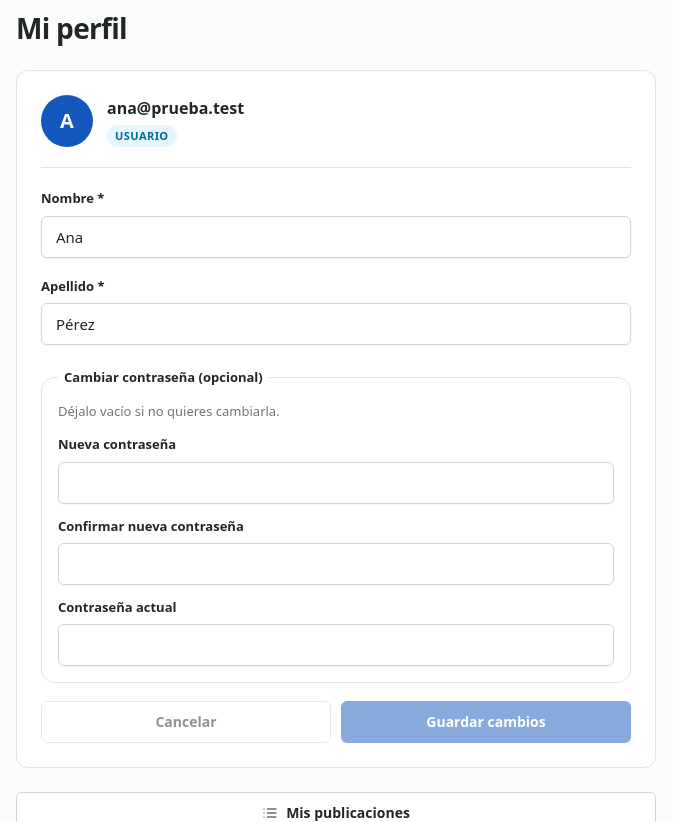
Test: H13 - Pantalla Perfil › muestra los errores junto a cada campo y no envía datos inválidos
Step 1. Replace the text in the field labelled "Nombre *" with "Ana123" → coordinates (336, 237), box [41,216,631,258]
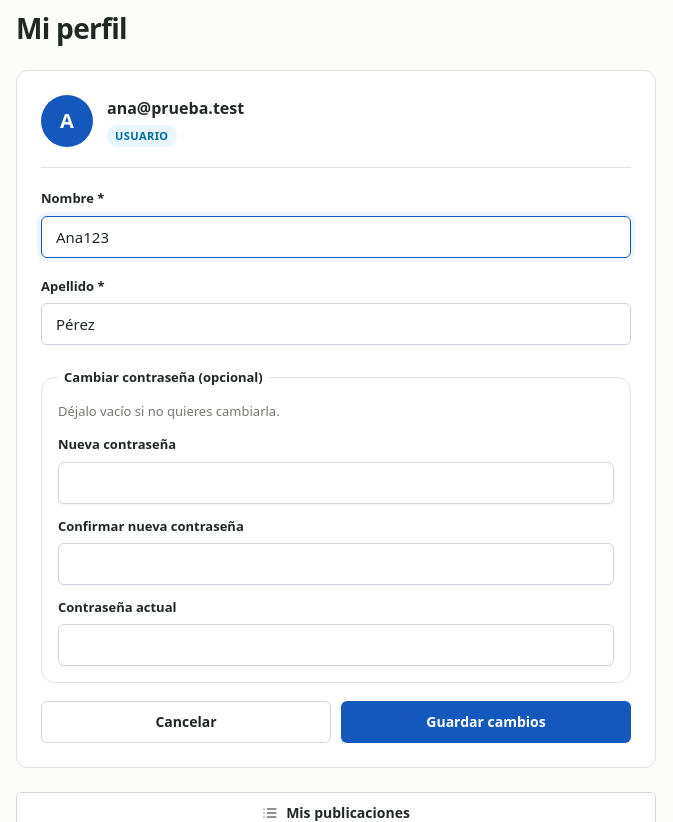
Step 2. Clear the field labelled "Apellido *" → coordinates (336, 324), box [41,303,631,345]
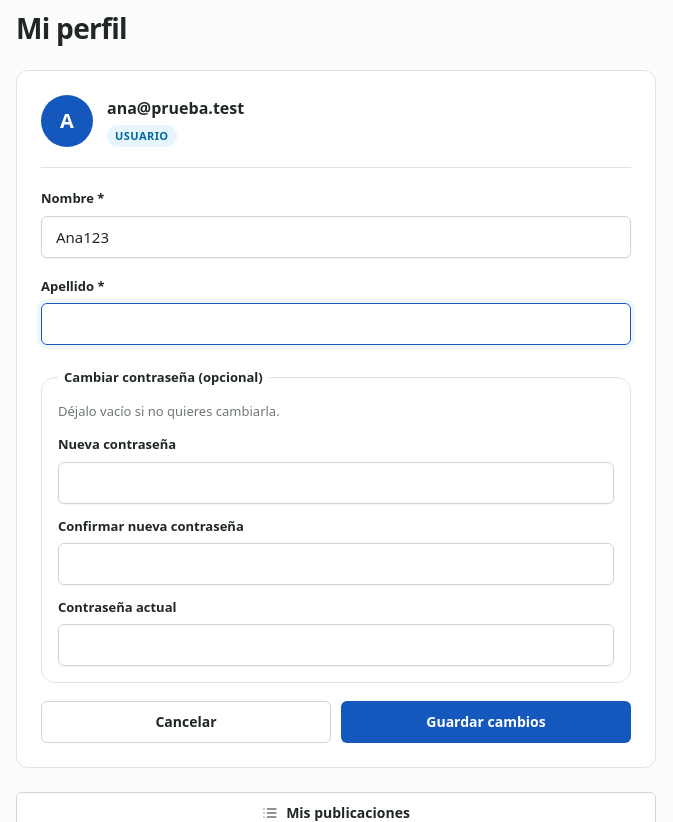
Step 3. Click the button "Guardar cambios" → coordinates (486, 722), box [341,701,631,743]
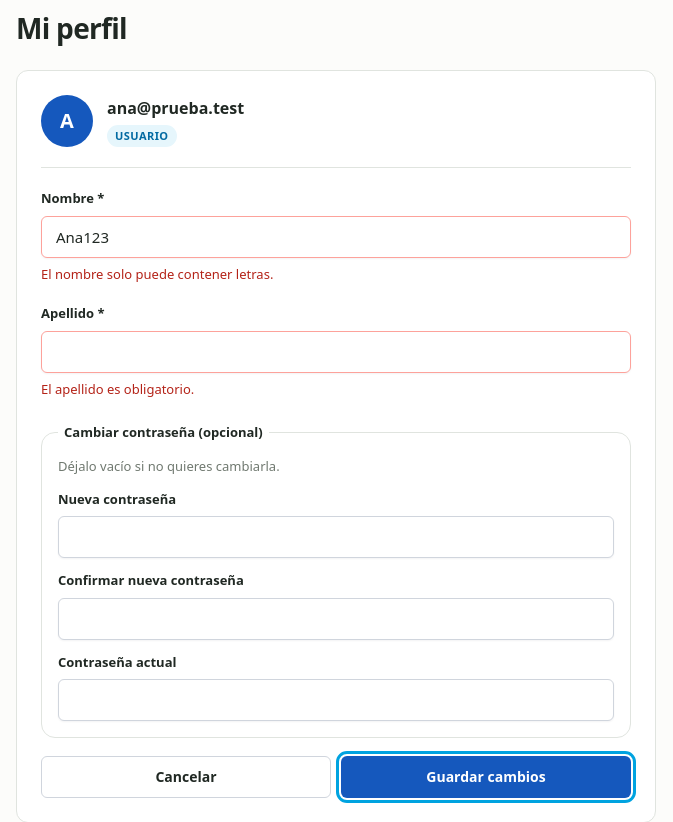
Expected: the text "El nombre solo puede contener letras." is shown, [41,265,273,283]
Expected: the text "El apellido es obligatorio." is shown, [41,380,194,398]
